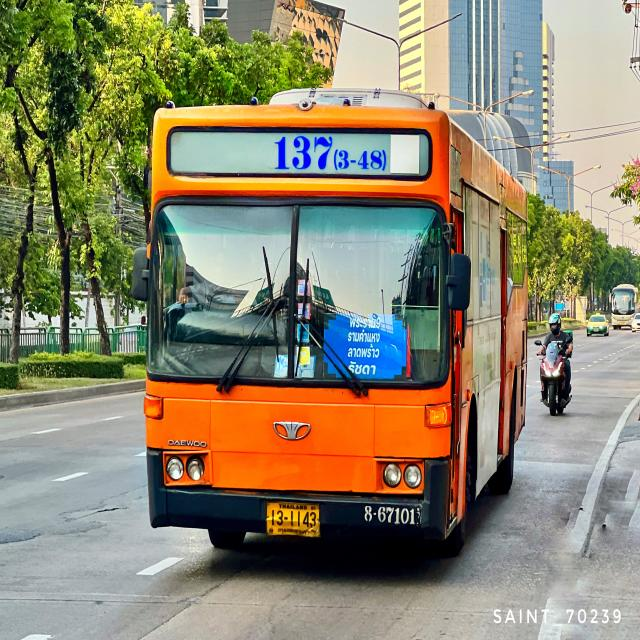BMTA-bus: (137, 91, 529, 554)
Bus-Line-Number: (268, 130, 391, 177)
Destination-Sign-Normal: (317, 316, 409, 384)
